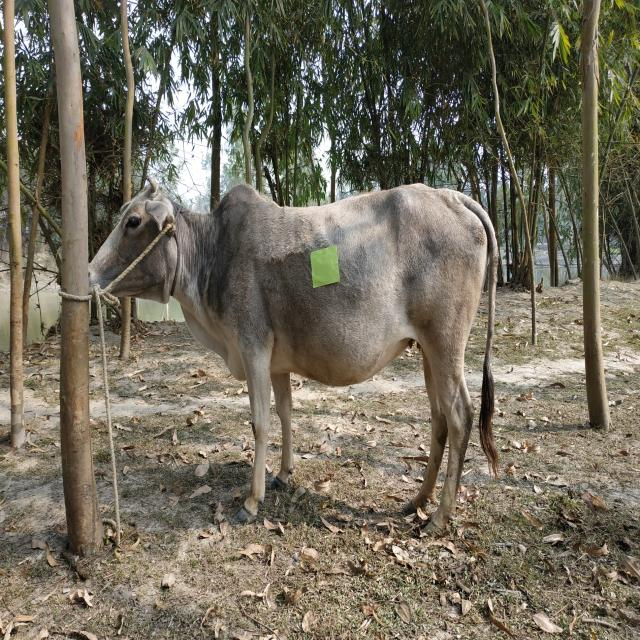badan_sapi: (221, 185, 488, 394)
sapi: (89, 172, 505, 538)
